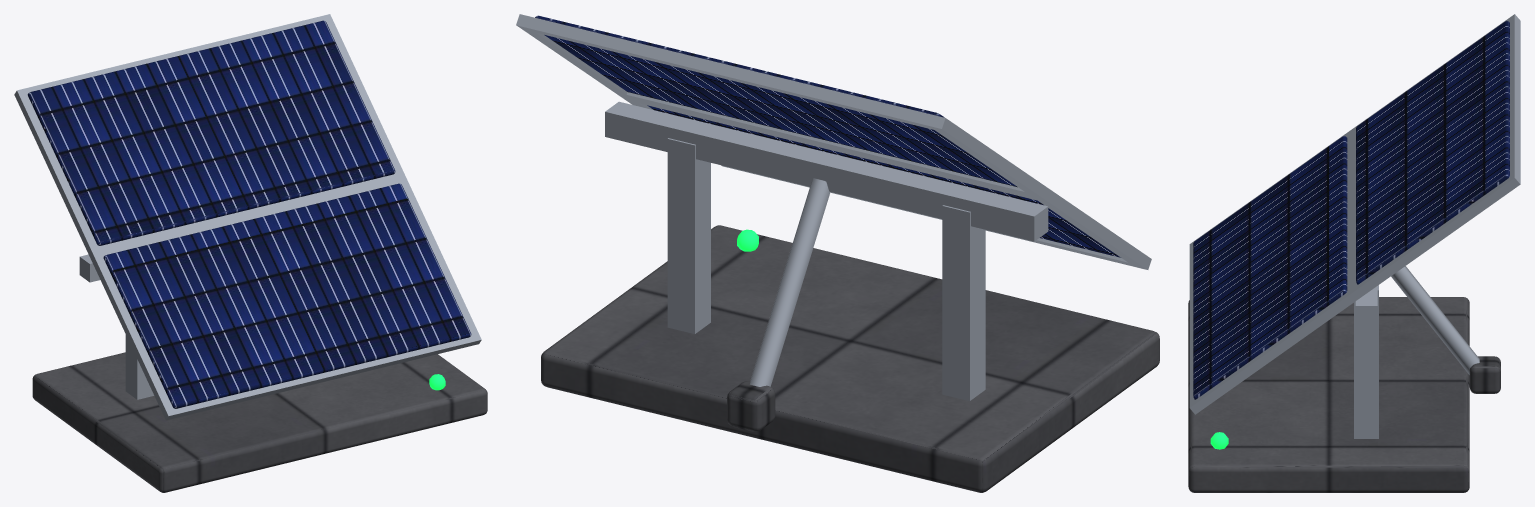
File: SolarPanelGround.glb
3 views of the same model, side by side, from view 1: azimuth 30°, elevation 25°; view 2: azimuth 150°, elevation 25°; view 3: azimuth 270°, elevation 25° (orthographic). The views are drawn at different scales.
Parts seen in each view (by area): view 1: SOLS_Array_Mesh; view 2: SOLS_Array_Mesh; view 3: SOLS_Array_Mesh.
Boxes of the visible parts, bbox=[...] form: SOLS_Array_Mesh: bbox=[14, 14, 487, 492]; SOLS_Array_Mesh: bbox=[516, 14, 1159, 492]; SOLS_Array_Mesh: bbox=[1188, 14, 1520, 492].
Size of the model in its own units: 1.3 by 1.11 by 1.06.
Materials: 4 (2 with a texture image).
